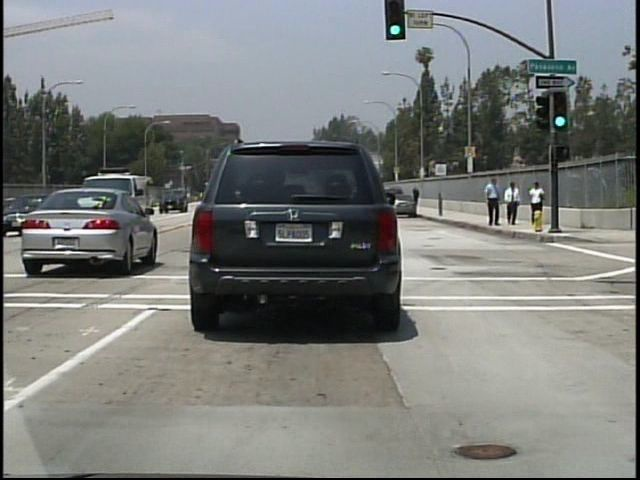person: (484, 179, 503, 233), (504, 180, 523, 227), (528, 181, 546, 212), (411, 186, 422, 209)
